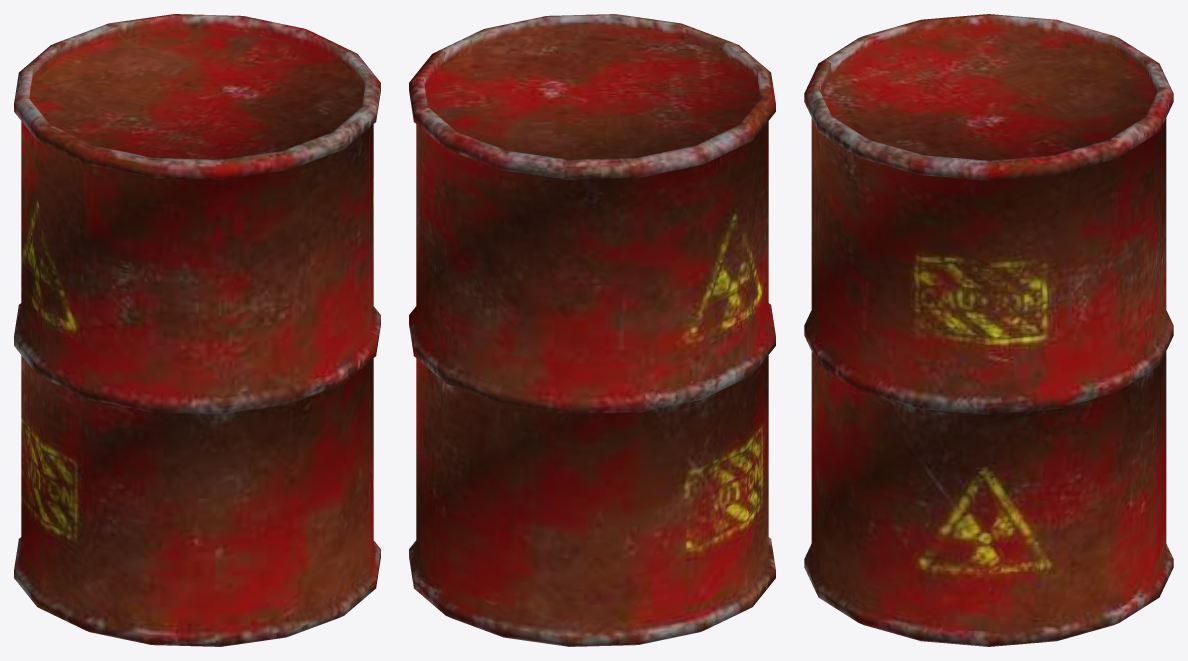
File: youtong.fbx
3 views of the same model, side by side, from view 1: azimuth 30°, elevation 25°; view 2: azimuth 150°, elevation 25°; view 3: azimuth 270°, elevation 25° (orthographic).
Parts seen in each view (by area): view 1: Cylinder; view 2: Cylinder; view 3: Cylinder.
Boxes of the visible parts, x1=… form: Cylinder: x1=14, y1=14, x2=380, y2=646; Cylinder: x1=409, y1=14, x2=775, y2=646; Cylinder: x1=804, y1=14, x2=1173, y2=646.
Bounding box in the file's own units: 71.92 × 104 × 71.92.
Materials: 1 (1 with a texture image).
